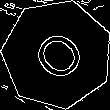O_SE: (24, 21, 91, 87)
